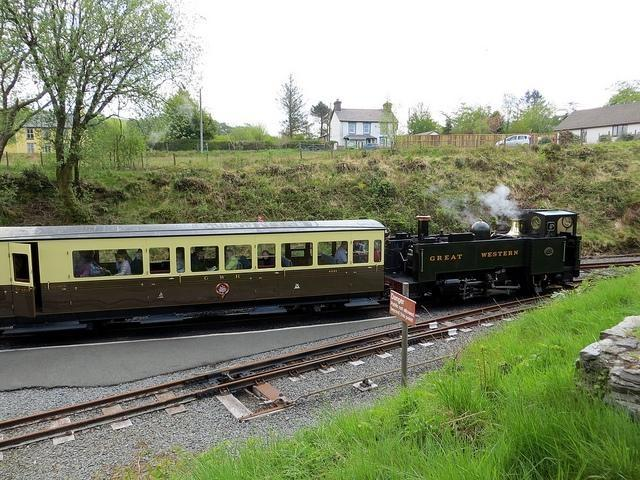car: (494, 136, 530, 147)
